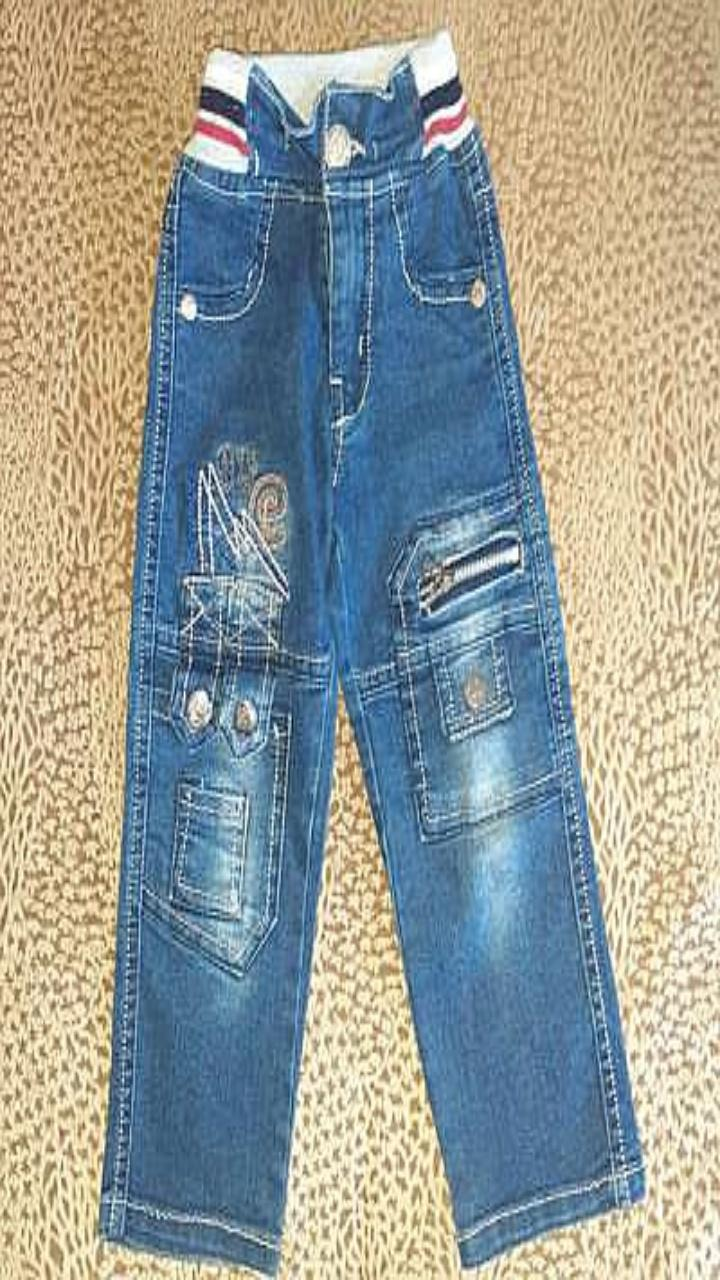Jeans: (100, 29, 644, 1274)
